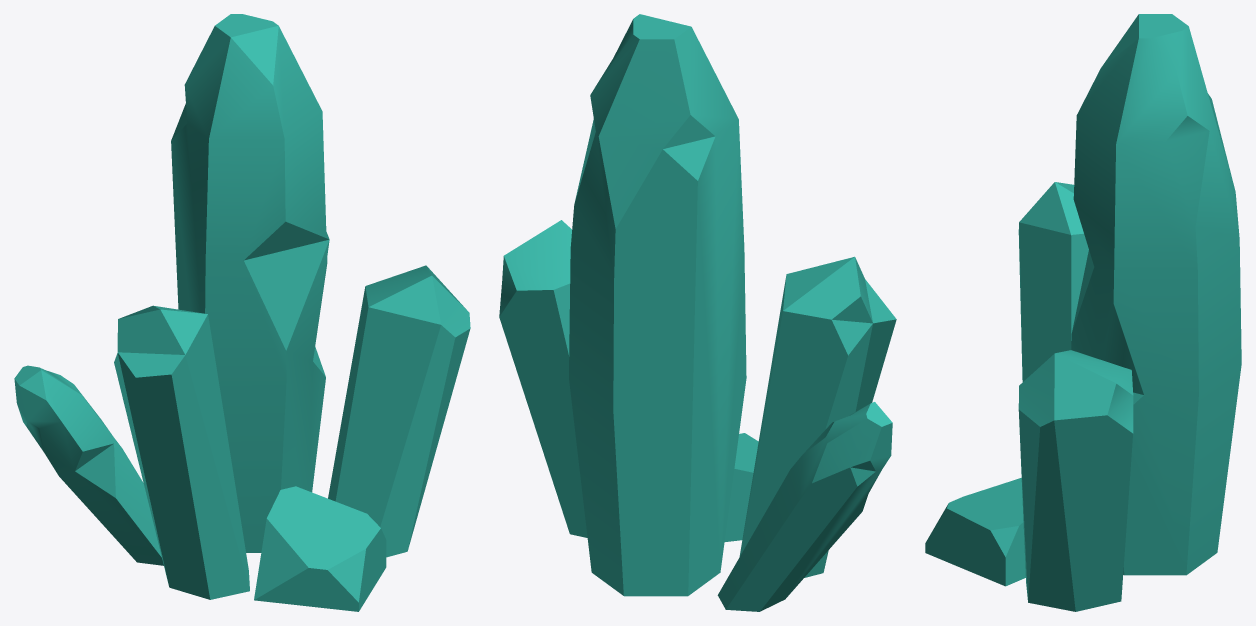
File: Crystal.fbx
3 renders of one model, left to right at view 1: azimuth 30°, elevation 25°; view 2: azimuth 150°, elevation 25°; view 3: azimuth 270°, elevation 25°, orthographic. The views are drawn at different scales.
Visible parts, largest first — view 1: Crystal; view 2: Crystal; view 3: Crystal.
Part boxes in pixels (<box>): Crystal: <box>14,14,470,611</box>; Crystal: <box>499,14,896,611</box>; Crystal: <box>925,14,1241,611</box>.
Bounding box in the file's own units: 1.45 × 1.77 × 0.9656.
